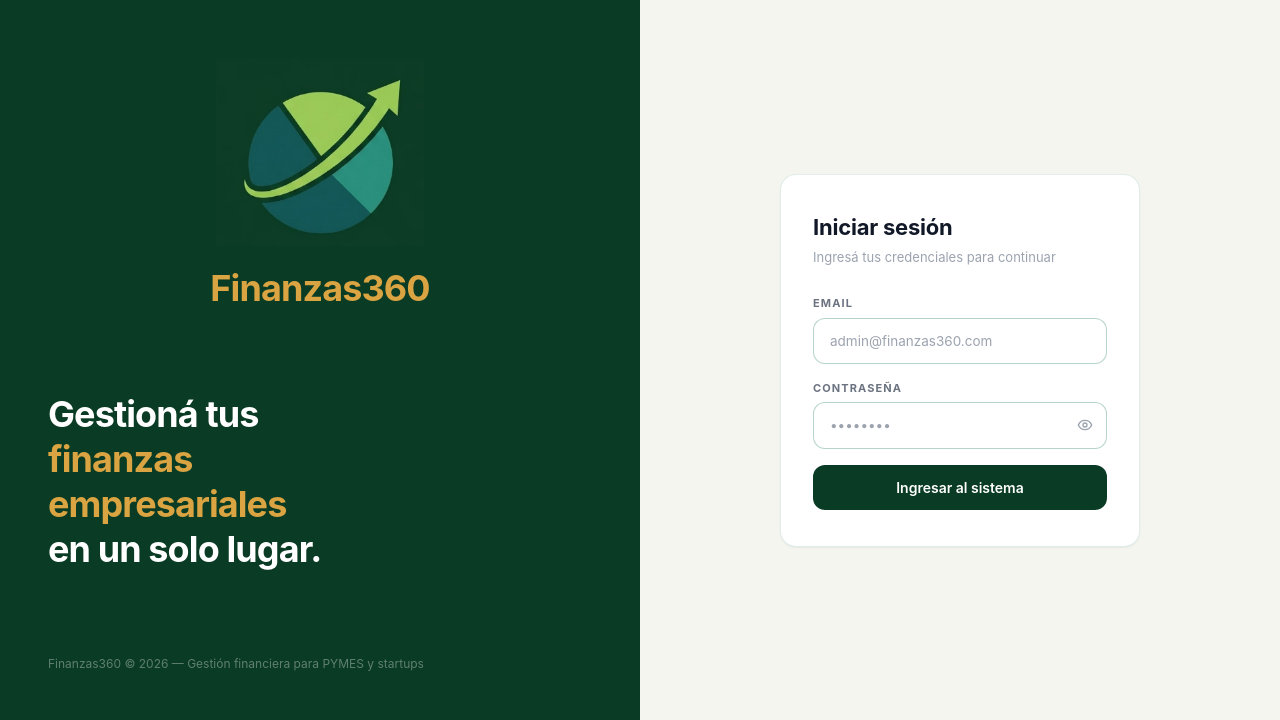
Test case: Autenticación — Login › campos vacíos muestran error de validación de email
What coordinates should you click on to do the following:
click the button "Ingresar al sistema"
I would click on:
 (960, 488)
Its box is [813, 465, 1107, 510].
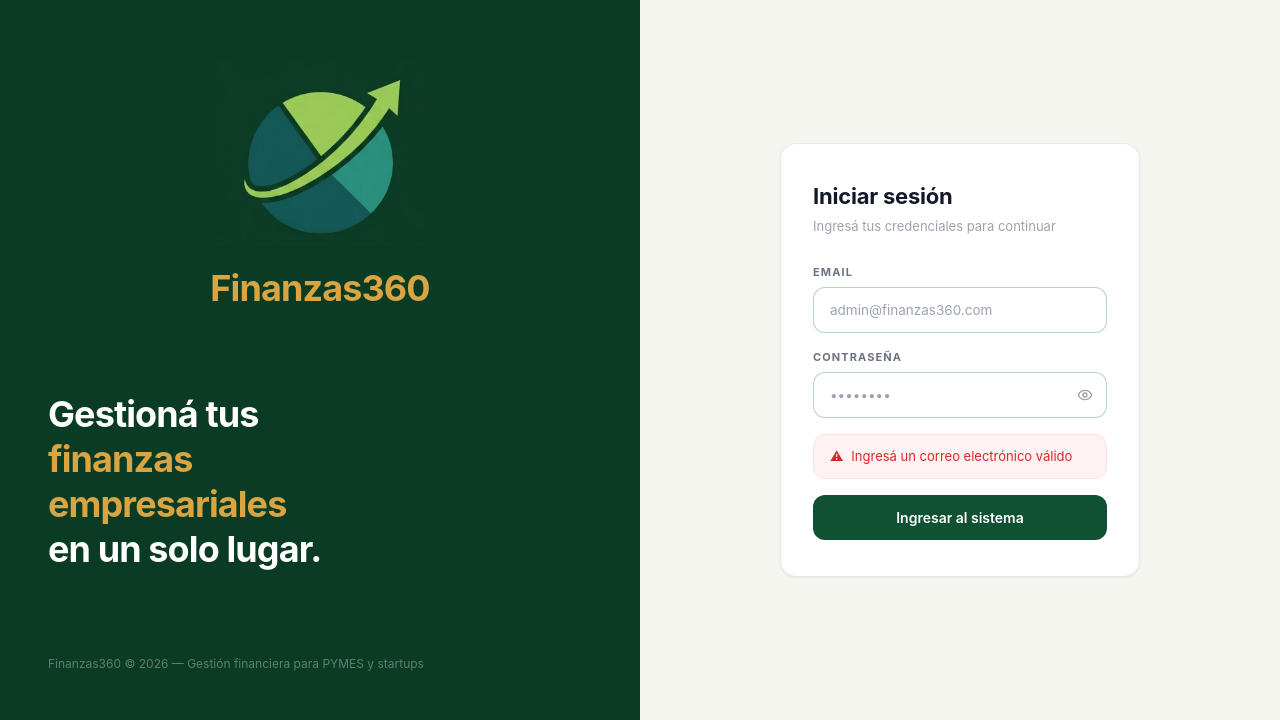
Now the text "Ingresá un correo electrónico válido" is shown, box [851, 447, 1090, 466]
